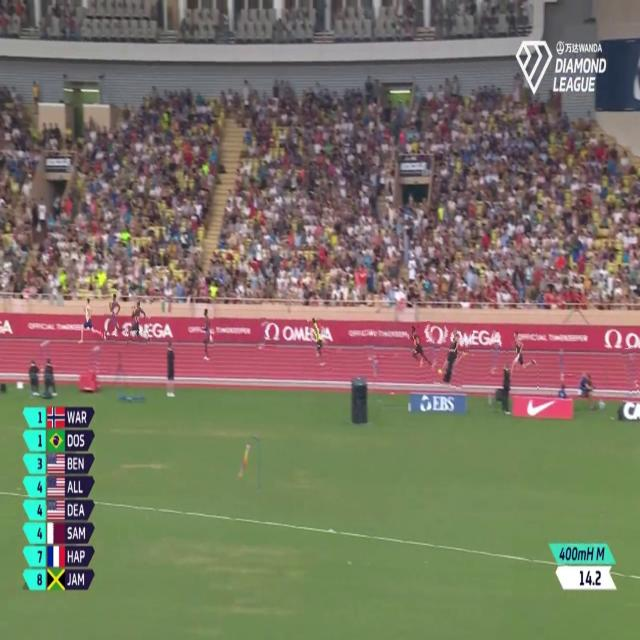athlete: (436, 323, 471, 388), (506, 326, 538, 391), (408, 322, 438, 384), (75, 292, 104, 348), (103, 289, 129, 345), (309, 311, 330, 374), (128, 296, 152, 351), (201, 308, 214, 361)
hurdle: (622, 346, 640, 396), (363, 326, 384, 368), (488, 332, 504, 381), (256, 318, 273, 356), (88, 342, 104, 382), (36, 336, 53, 373), (557, 341, 569, 385)
